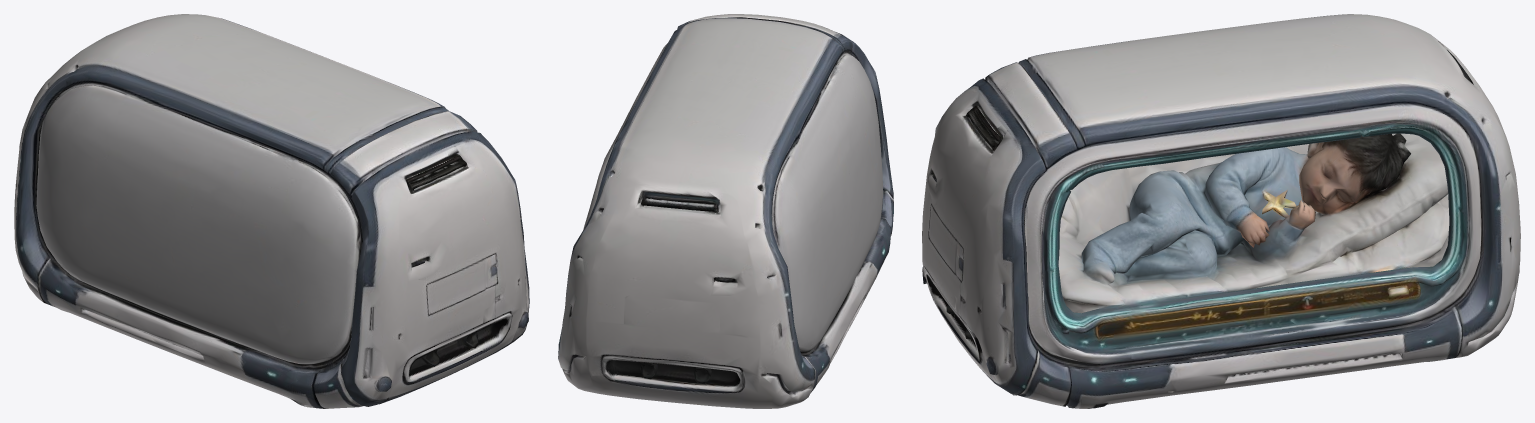
Rendered from hero_prop_cryo_pod.glb.
The picture shows the model from 3 angles, left to right: view 1: azimuth 30°, elevation 25°; view 2: azimuth 150°, elevation 25°; view 3: azimuth 270°, elevation 25°; orthographic projection. The views are drawn at different scales.
Visible parts, largest first — view 1: tripo_node_15bb0c5c-d618-480c-aea5-8d30d6348c3d; view 2: tripo_node_15bb0c5c-d618-480c-aea5-8d30d6348c3d; view 3: tripo_node_15bb0c5c-d618-480c-aea5-8d30d6348c3d.
Boxes of the visible parts, x1,y1,x2,y2 form: tripo_node_15bb0c5c-d618-480c-aea5-8d30d6348c3d: (14, 14, 529, 408); tripo_node_15bb0c5c-d618-480c-aea5-8d30d6348c3d: (558, 14, 893, 408); tripo_node_15bb0c5c-d618-480c-aea5-8d30d6348c3d: (922, 14, 1520, 408).
Bounding box in the file's own units: 0.7286 × 0.5264 × 1.03.
Materials: 1 (1 with a texture image).
